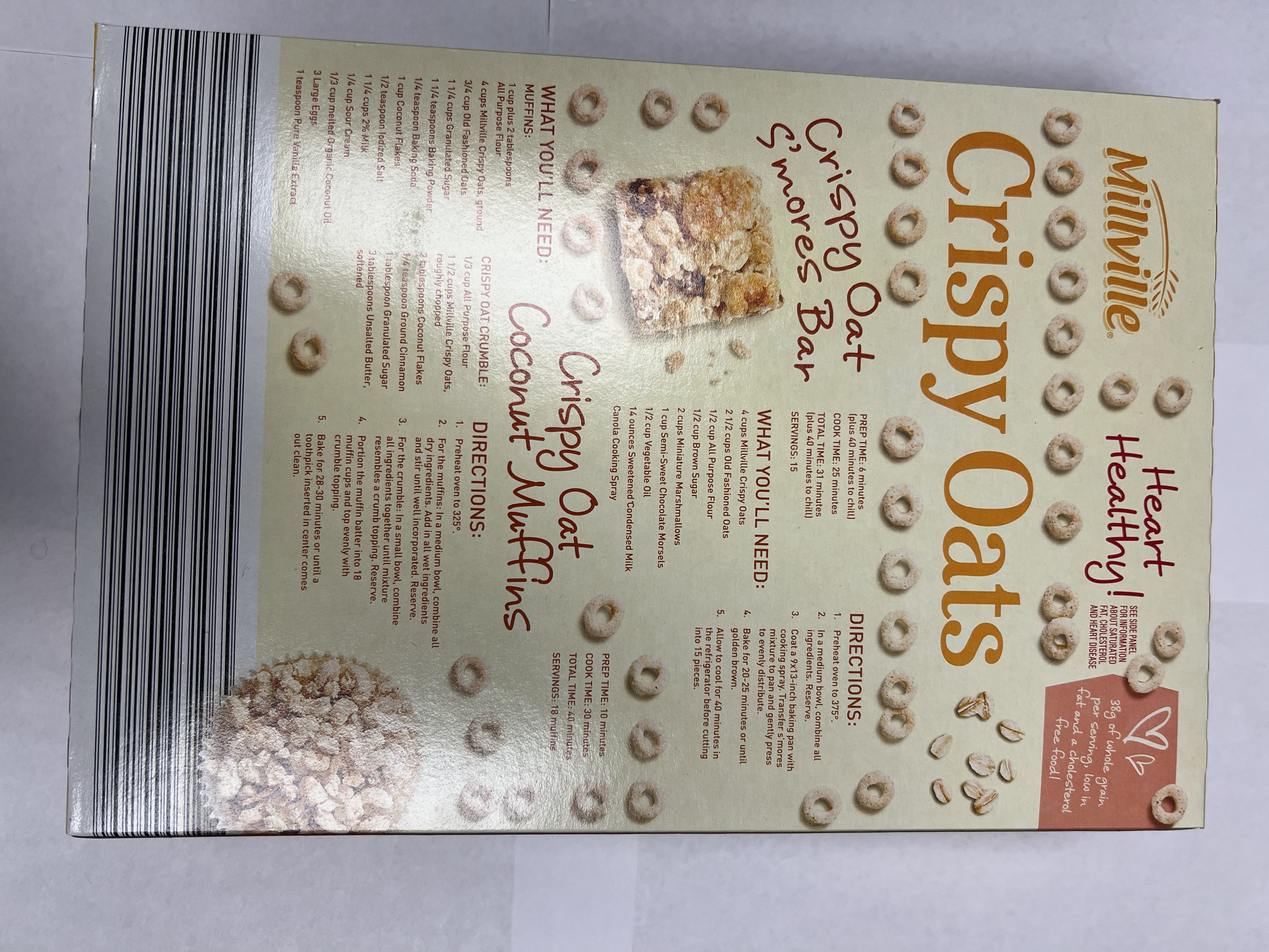packaged: (59, 21, 1232, 841)
